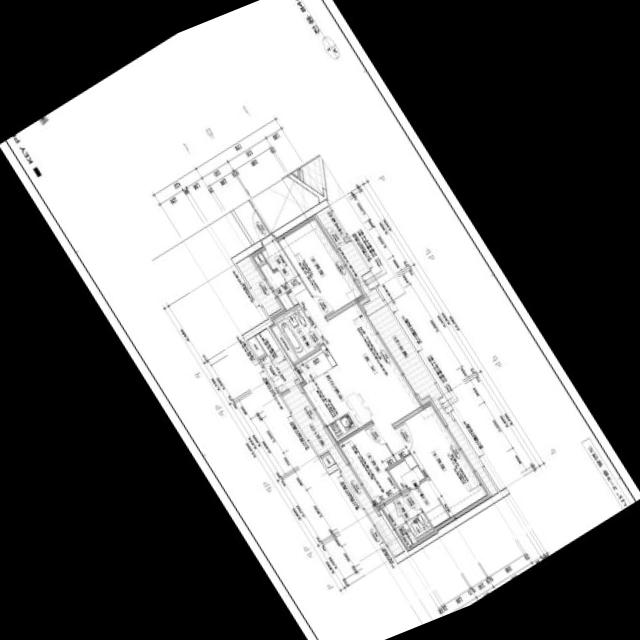background: (0, 0, 640, 640)
space_balconi: (337, 240, 497, 495), (254, 327, 403, 555), (236, 255, 280, 314)
space_bedroom: (394, 400, 489, 519), (276, 214, 364, 316), (336, 422, 399, 508)
space_dressroom: (387, 459, 451, 531)
space_front: (259, 234, 301, 288)
space_kitchen: (293, 348, 370, 441)
space_living_room: (286, 280, 421, 459)
space_other: (258, 262, 293, 310), (268, 322, 297, 362), (315, 205, 345, 241), (246, 335, 264, 356), (400, 530, 417, 548), (250, 249, 264, 264), (321, 453, 333, 466)
space_toilet: (276, 305, 322, 358), (382, 489, 431, 537)
